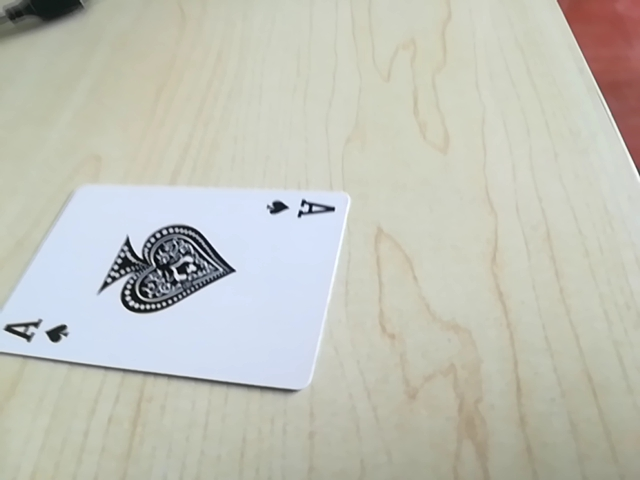ht a: (0, 313, 76, 355), (259, 192, 339, 227)
